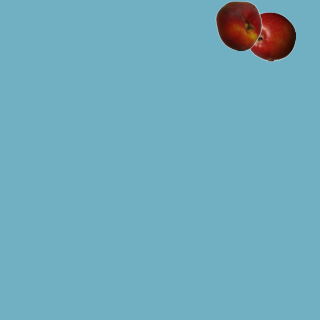Apple Braeburn: (245, 11, 295, 61)
Nectarine Flat: (213, 0, 263, 50)
